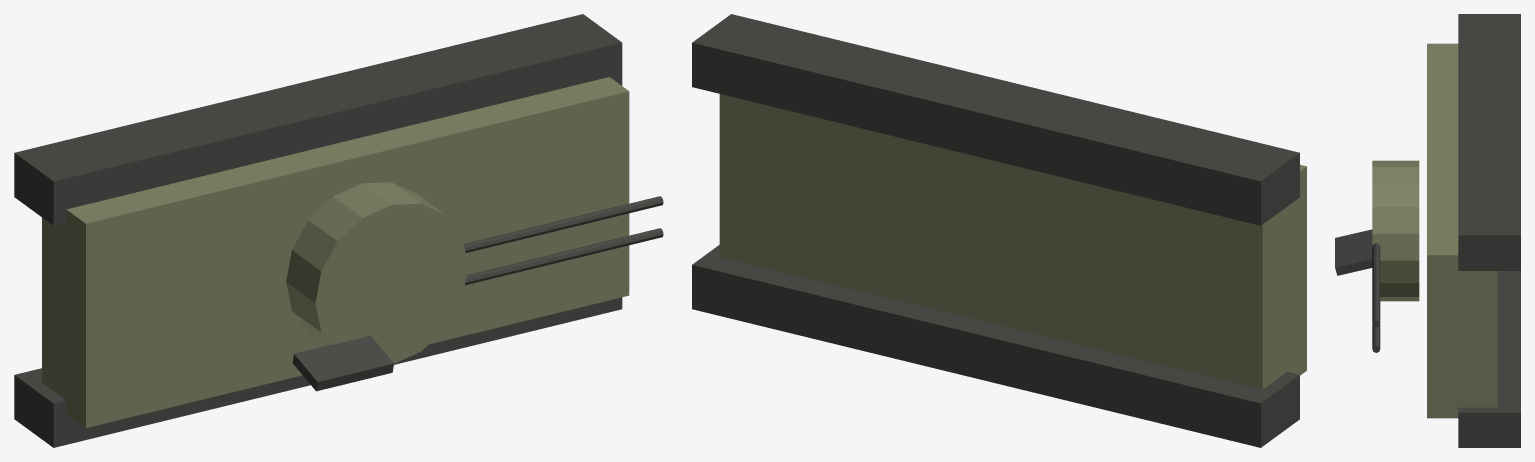
The model's file is pgz09.glb.
The picture shows the model from 3 angles, left to right: view 1: azimuth 30°, elevation 25°; view 2: azimuth 150°, elevation 25°; view 3: azimuth 270°, elevation 25°; orthographic projection. The views are drawn at different scales.
Visible parts, largest first — view 1: geometry_0; view 2: geometry_0; view 3: geometry_0.
Boxes of the visible parts, bbox=[...] form: geometry_0: bbox=[14, 14, 663, 447]; geometry_0: bbox=[692, 14, 1306, 447]; geometry_0: bbox=[1335, 14, 1520, 447].
Size of the model in its own units: 6.7 by 3 by 2.38.
